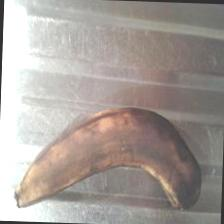Banana Rotten: (5, 103, 220, 216)
